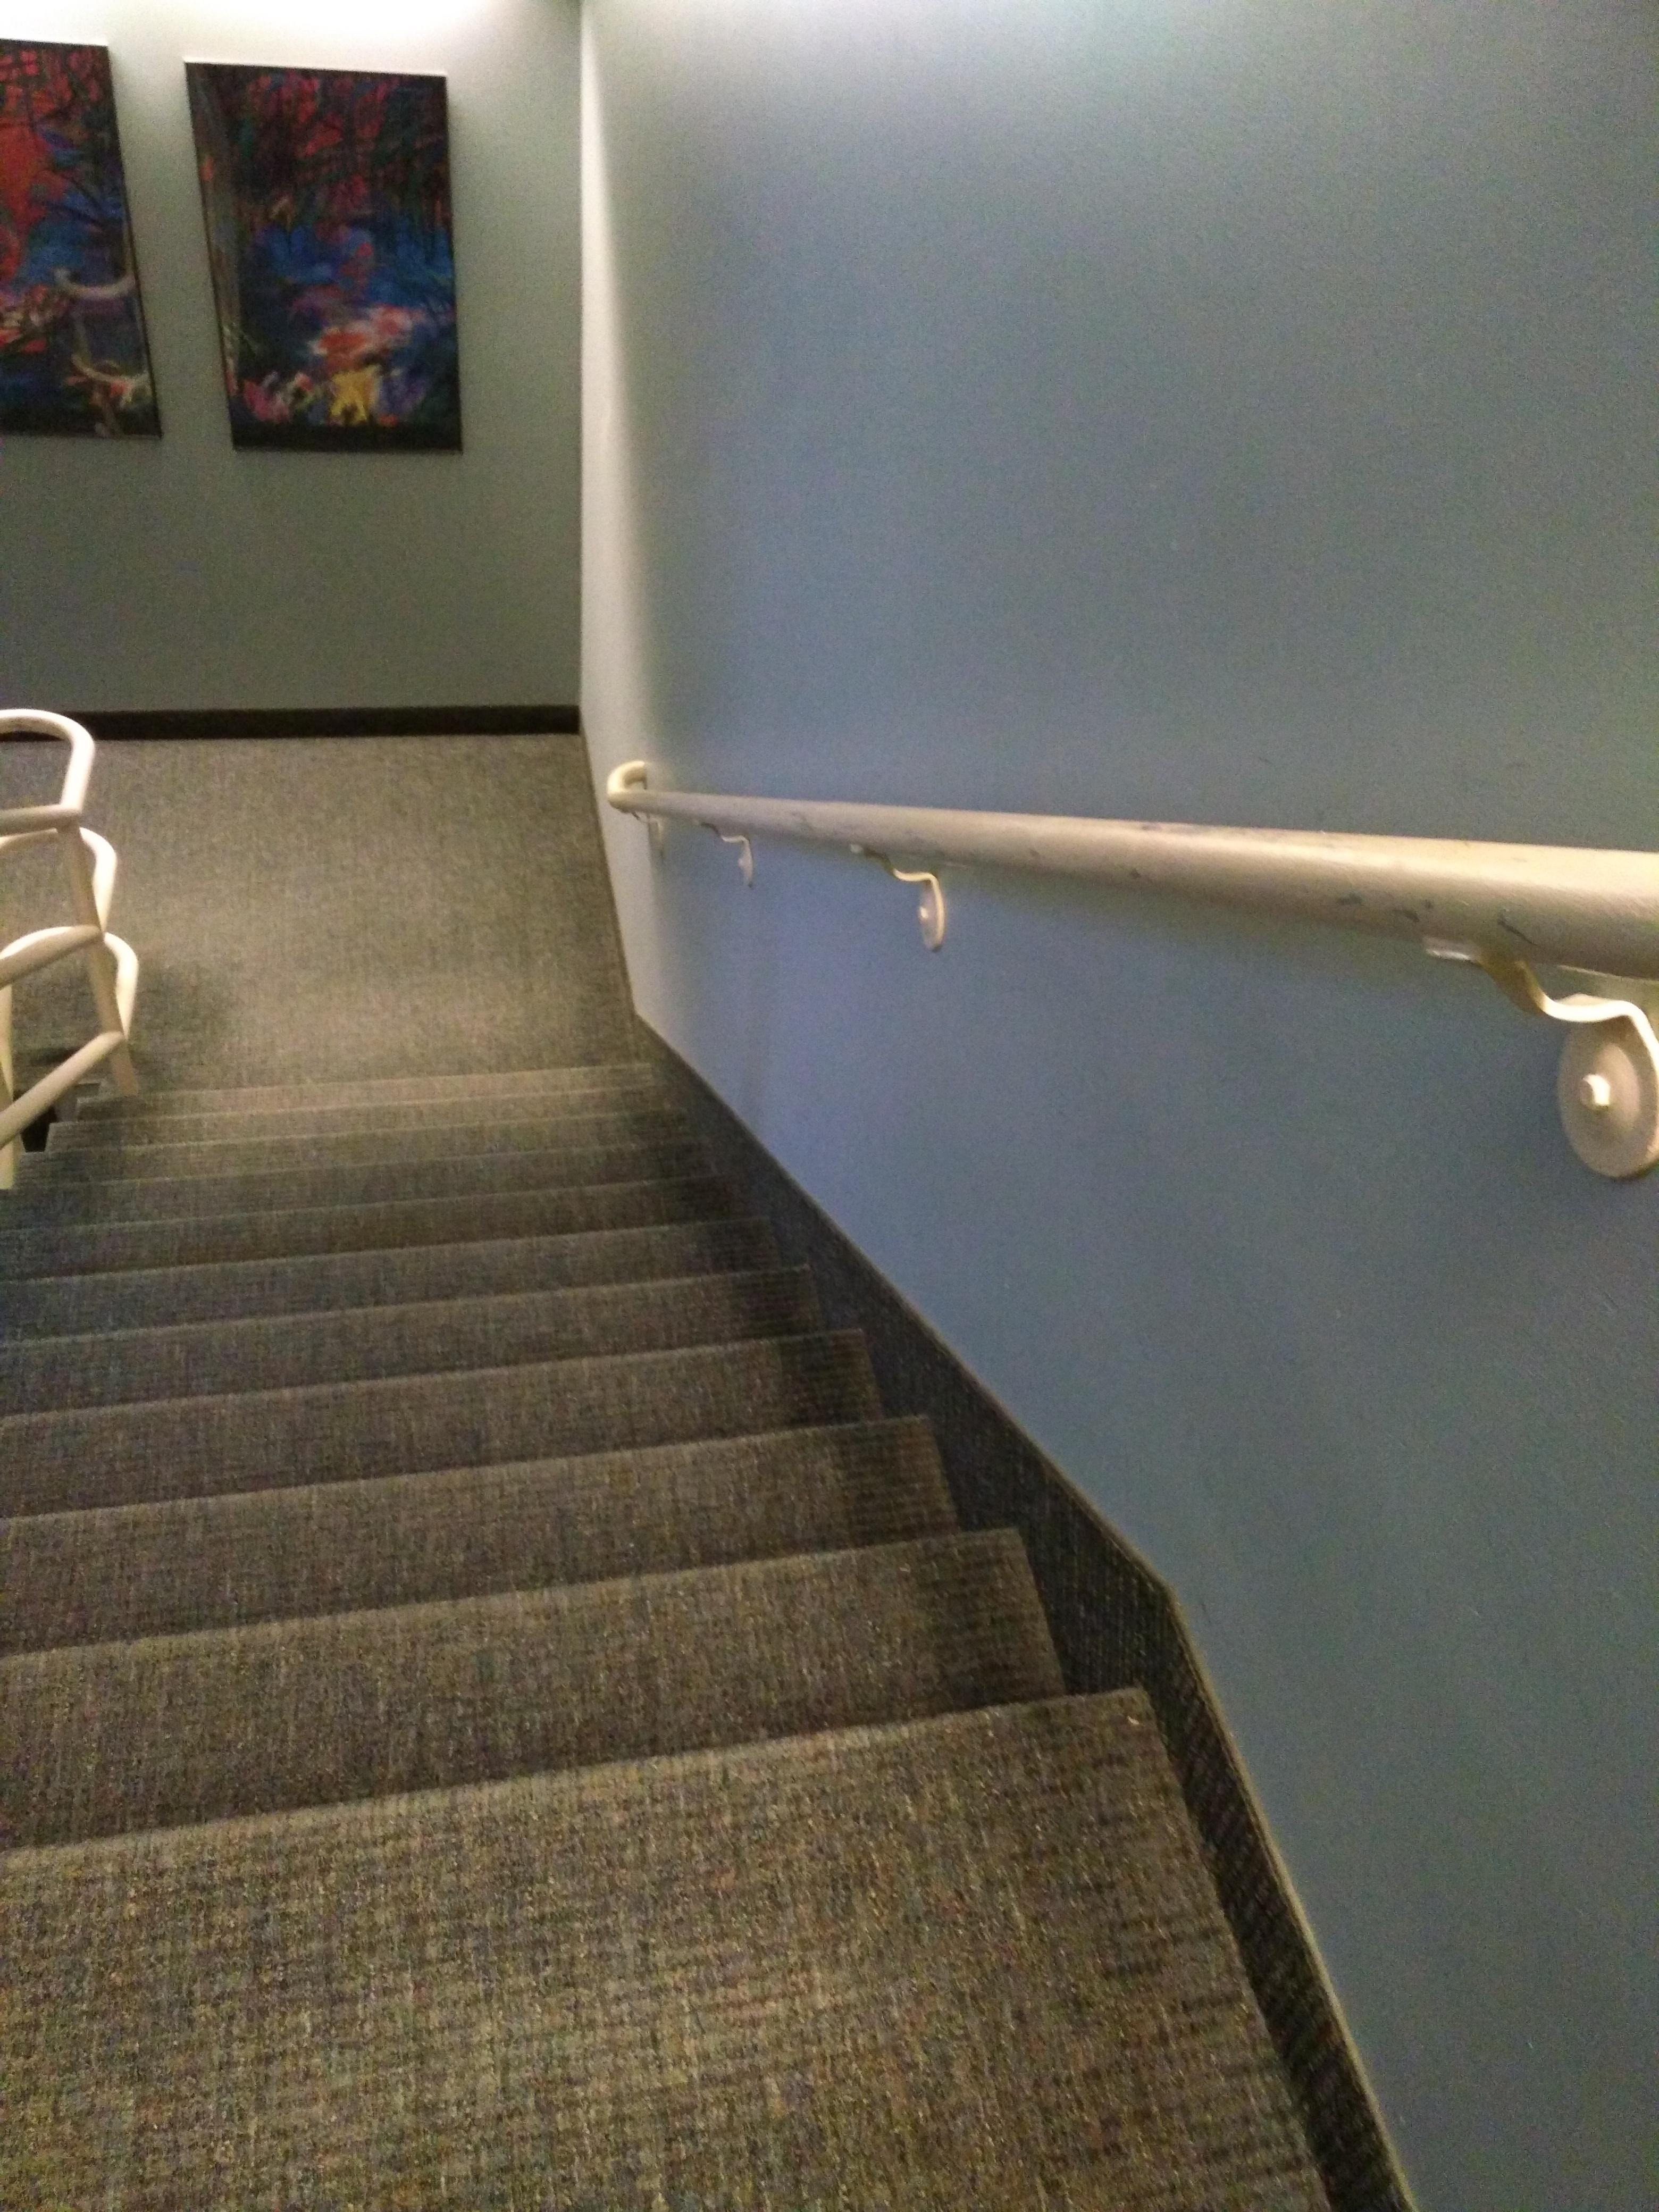stairs_down: (40, 1059, 1047, 1921)
